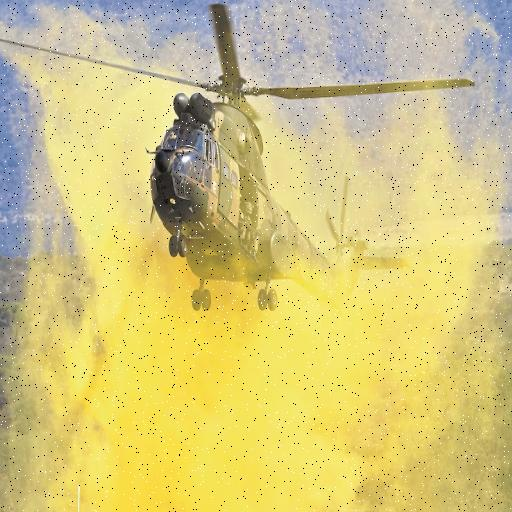helicopter: (63, 1, 485, 324)
